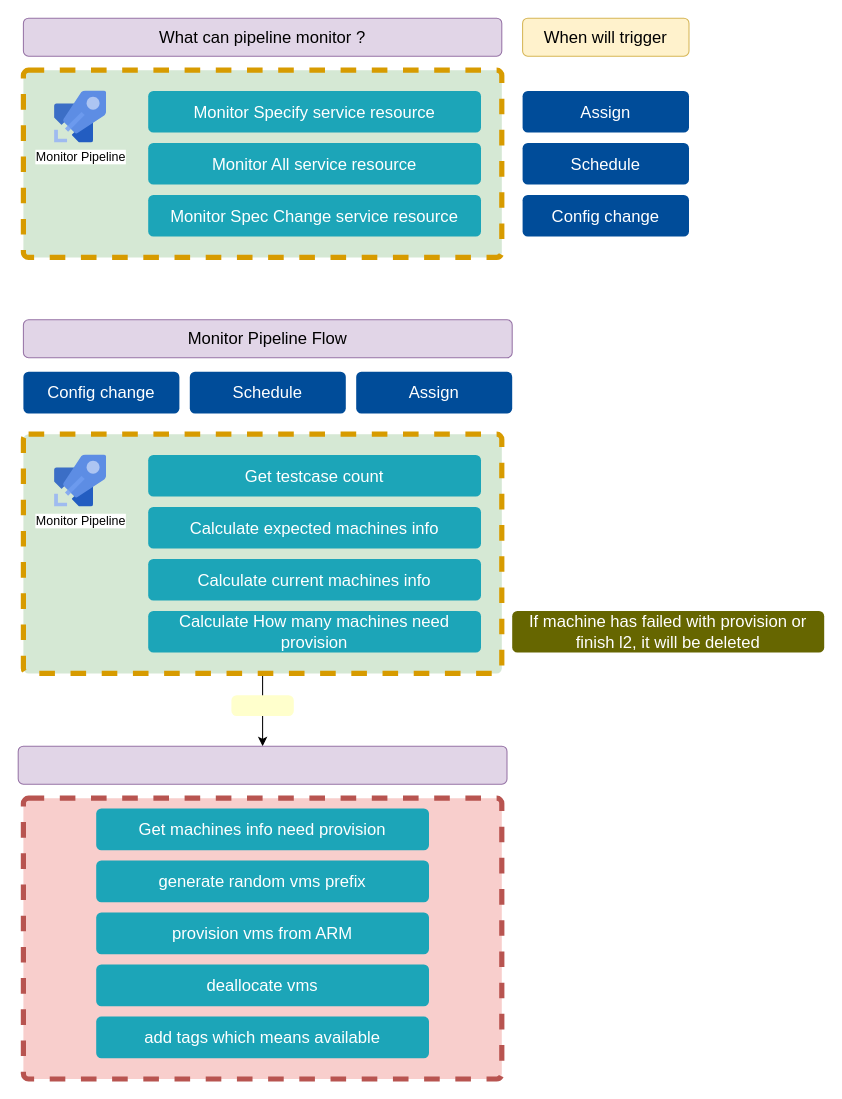
This 842x1099 diagram has some shape labels left out. The centre of each missing label's shape, as x and y in pixels:
"Provision Pipeline Flow" goes at point (262, 764).
"True" goes at point (262, 705).
